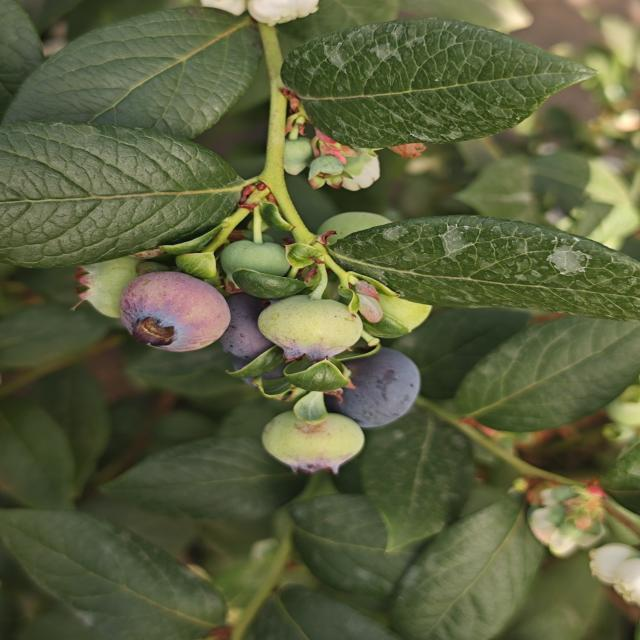ripe: (211, 290, 328, 375), (324, 345, 424, 430)
